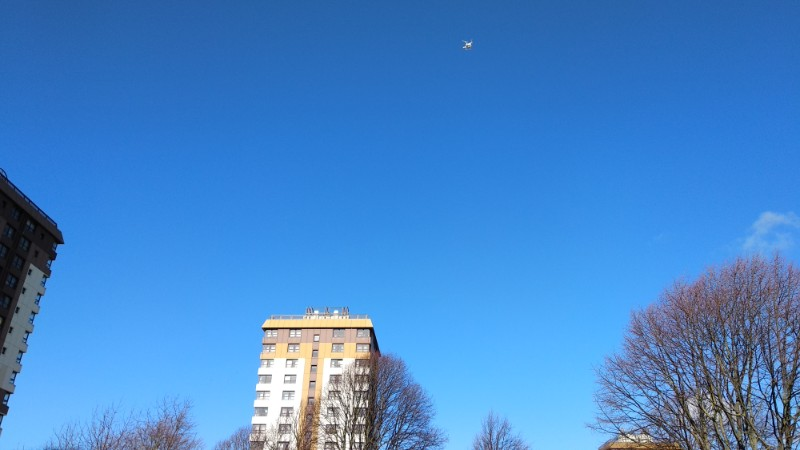drone: (461, 38, 473, 52)
